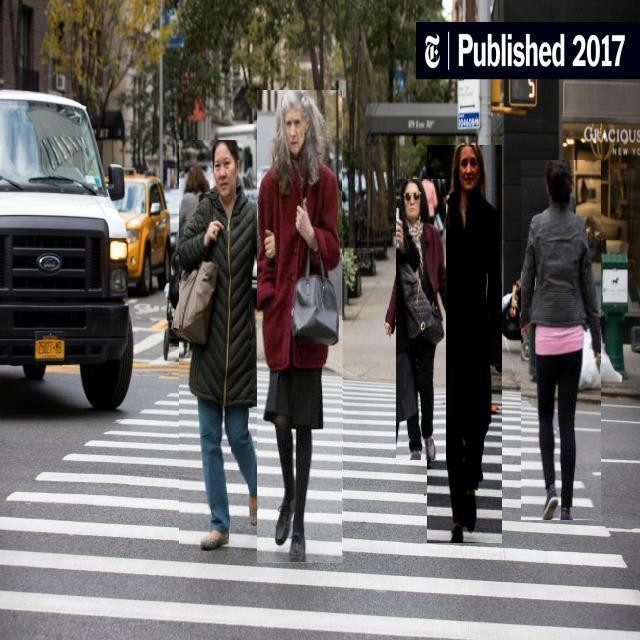without scooter: (258, 91, 344, 564), (180, 140, 266, 551), (427, 145, 502, 543), (521, 161, 601, 522), (396, 179, 446, 460)
